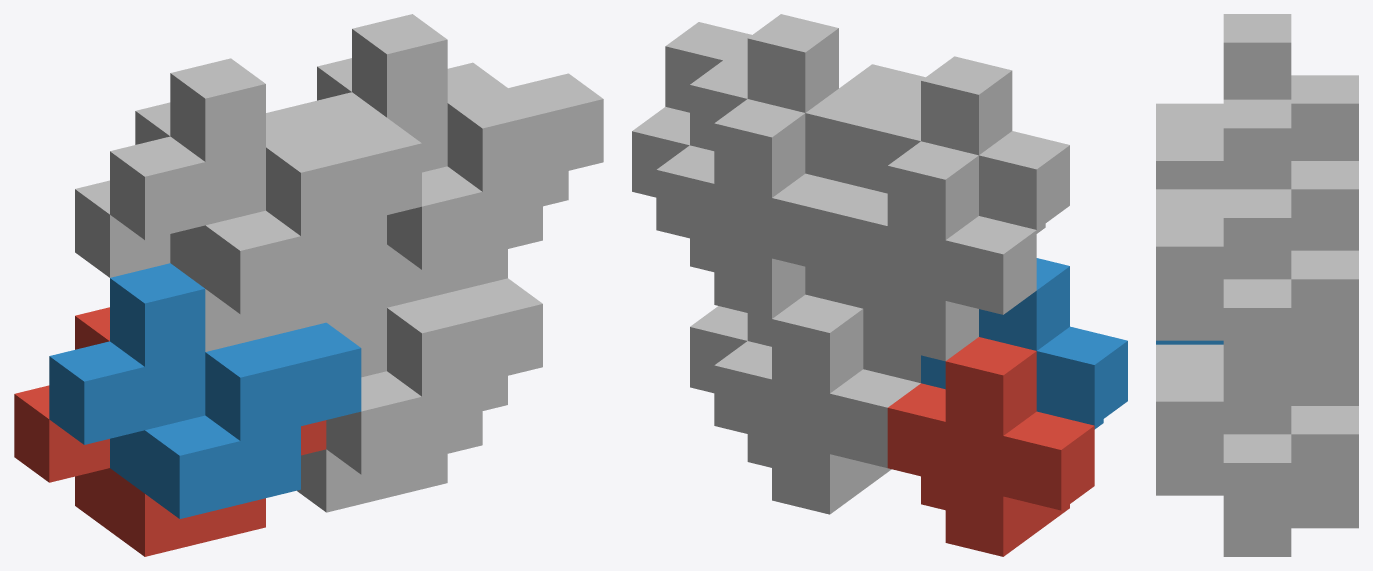
File: tiling.obj
3 views of the same model, side by side, from view 1: azimuth 30°, elevation 25°; view 2: azimuth 150°, elevation 25°; view 3: azimuth 270°, elevation 25° (orthographic). The views are drawn at different scales.
Visible parts, largest first — view 1: copy_1_domain_4, copy_1_domain_2, copy_1_domain_8, copy_1_domain_6, copy_1_domain_1, copy_1_domain_3, copy_1_domain_5, copy_1_domain_7; view 2: copy_1_domain_5, copy_1_domain_7, copy_1_domain_1, copy_1_domain_3, copy_1_domain_8, copy_1_domain_4, copy_1_domain_2, copy_1_domain_6; view 3: copy_1_domain_7, copy_1_domain_8, copy_1_domain_5, copy_1_domain_6, copy_1_domain_4, copy_1_domain_3, copy_1_domain_2.
Boxes of the visible parts, bbox=[...] form: copy_1_domain_4: bbox=[110, 58, 421, 314]; copy_1_domain_2: bbox=[49, 263, 361, 518]; copy_1_domain_8: bbox=[292, 14, 603, 269]; copy_1_domain_6: bbox=[326, 244, 542, 474]; copy_1_domain_1: bbox=[14, 307, 326, 556]; copy_1_domain_3: bbox=[75, 102, 386, 351]; copy_1_domain_5: bbox=[297, 376, 507, 512]; copy_1_domain_7: bbox=[317, 58, 568, 307]; copy_1_domain_5: bbox=[690, 294, 920, 514]; copy_1_domain_7: bbox=[632, 99, 862, 318]; copy_1_domain_1: bbox=[887, 337, 1094, 556]; copy_1_domain_3: bbox=[830, 141, 1036, 361]; copy_1_domain_8: bbox=[665, 14, 896, 187]; copy_1_domain_4: bbox=[839, 56, 1069, 233]; copy_1_domain_2: bbox=[921, 258, 1127, 429]; copy_1_domain_6: bbox=[747, 266, 920, 383]; copy_1_domain_7: bbox=[1223, 161, 1358, 401]; copy_1_domain_8: bbox=[1156, 99, 1291, 340]; copy_1_domain_5: bbox=[1223, 373, 1358, 556]; copy_1_domain_6: bbox=[1156, 344, 1291, 495]; copy_1_domain_4: bbox=[1156, 14, 1291, 189]; copy_1_domain_3: bbox=[1291, 75, 1358, 160]; copy_1_domain_2: bbox=[1156, 340, 1223, 344].
Size of the model in its own units: 8 by 7 by 3.
